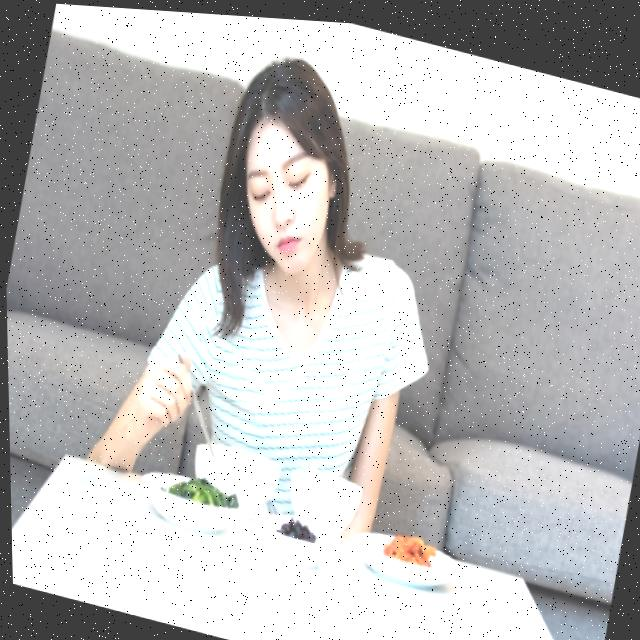eating-person: (65, 3, 544, 627)
